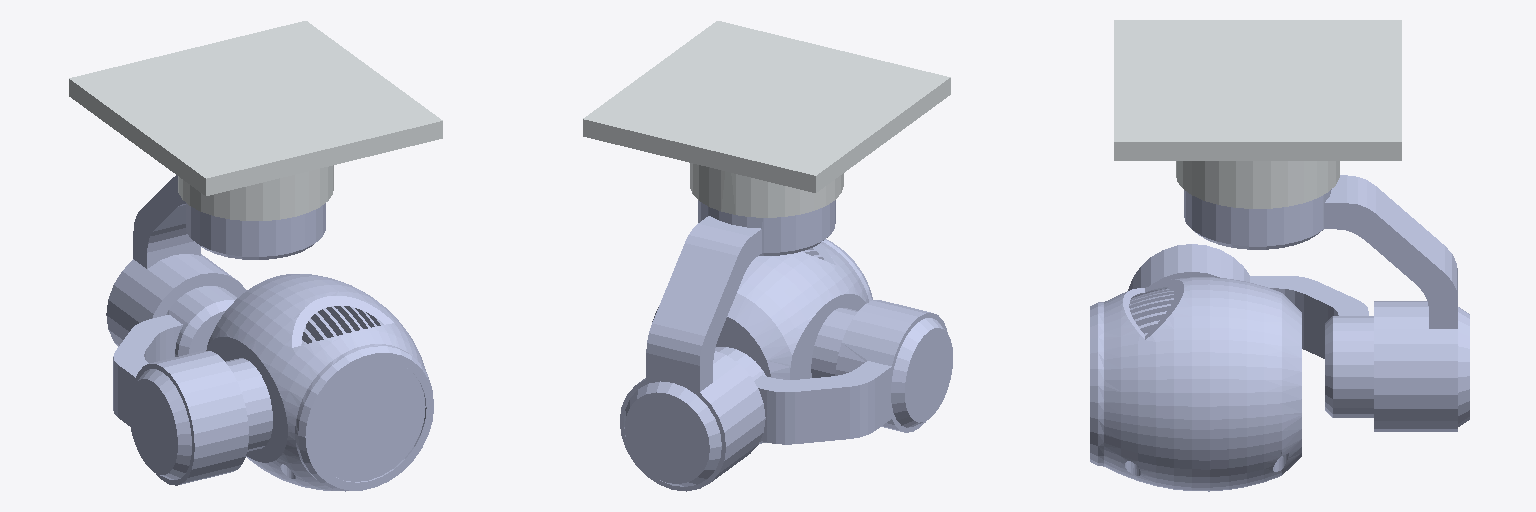
robot.urdf — my_gimbal_3d:
<?xml version="1.0" encoding="utf-8"?>
<!-- This URDF was automatically created by SolidWorks to URDF Exporter! Originally created by [author] ([email redacted]) 
     Commit Version: 1.6.0-4-g7f85cfe  Build Version: 1.6.7995.38578
     For more information, please see http://wiki.ros.org/sw_urdf_exporter -->
<robot
  name="my_gimbal_3d">
  <link
    name="base_link">
    <inertial>
      <origin
        xyz="-1.1249E-17 5.3962E-18 -0.0045389"
        rpy="0 0 0" />
      <mass
        value="0.078458" />
      <inertia
        ixx="3.1364E-05"
        ixy="2.356E-21"
        ixz="1.6956E-21"
        iyy="3.1364E-05"
        iyz="1.4274E-21"
        izz="5.8255E-05" />
    </inertial>
    <visual>
      <origin
        xyz="0 0 0"
        rpy="0 0 0" />
      <geometry>
        <mesh
          filename="package://my_gimbal_3d/meshes/base_link.STL" />
      </geometry>
      <material
        name="">
        <color
          rgba="0.89804 0.91765 0.92941 1" />
      </material>
    </visual>
    <collision>
      <origin
        xyz="0 0 0"
        rpy="0 0 0" />
      <geometry>
        <mesh
          filename="package://my_gimbal_3d/meshes/base_link.STL" />
      </geometry>
    </collision>
  </link>
  <link
    name="1st_link">
    <inertial>
      <origin
        xyz="1.2314E-16 -0.036892 -0.016252"
        rpy="0 0 0" />
      <mass
        value="0.14774" />
      <inertia
        ixx="0.00016878"
        ixy="2.5966E-21"
        ixz="2.3862E-21"
        iyy="7.3688E-05"
        iyz="-6.9072E-05"
        izz="0.00011514" />
    </inertial>
    <visual>
      <origin
        xyz="0 0 0"
        rpy="0 0 0" />
      <geometry>
        <mesh
          filename="package://my_gimbal_3d/meshes/1st_link.STL" />
      </geometry>
      <material
        name="">
        <color
          rgba="0.79216 0.81961 0.93333 1" />
      </material>
    </visual>
    <collision>
      <origin
        xyz="0 0 0"
        rpy="0 0 0" />
      <geometry>
        <mesh
          filename="package://my_gimbal_3d/meshes/1st_link.STL" />
      </geometry>
    </collision>
  </link>
  <joint
    name="pan"
    type="revolute">
    <origin
      xyz="0 0 -0.005"
      rpy="1.5708 0 0" />
    <parent
      link="base_link" />
    <child
      link="1st_link" />
    <axis
      xyz="0 1 0" />
    <limit
      lower="-0.7854"
      upper="0.7854"
      effort="0"
      velocity="0" />
  </joint>
  <link
    name="2nd_link">
    <inertial>
      <origin
        xyz="-0.022016 0 0.0019119"
        rpy="0 0 0" />
      <mass
        value="0.065317" />
      <inertia
        ixx="2.614E-05"
        ixy="1.2607E-22"
        ixz="1.2241E-05"
        iyy="3.501E-05"
        iyz="1.3965E-22"
        izz="1.5317E-05" />
    </inertial>
    <visual>
      <origin
        xyz="0 0 0"
        rpy="0 0 0" />
      <geometry>
        <mesh
          filename="package://my_gimbal_3d/meshes/2nd_link.STL" />
      </geometry>
      <material
        name="">
        <color
          rgba="0.79216 0.81961 0.93333 1" />
      </material>
    </visual>
    <collision>
      <origin
        xyz="0 0 0"
        rpy="0 0 0" />
      <geometry>
        <mesh
          filename="package://my_gimbal_3d/meshes/2nd_link.STL" />
      </geometry>
    </collision>
  </link>
  <joint
    name="roll"
    type="revolute">
    <origin
      xyz="0 -0.07165 0"
      rpy="0 0 0" />
    <parent
      link="1st_link" />
    <child
      link="2nd_link" />
    <axis
      xyz="0 0 1" />
    <limit
      lower="-0.7854"
      upper="0.7854"
      effort="0"
      velocity="0" />
  </joint>
  <link
    name="camera">
    <inertial>
      <origin
        xyz="0.0091921 -0.00078771 -0.0014335"
        rpy="0 0 0" />
      <mass
        value="0.23523" />
      <inertia
        ixx="7.527E-05"
        ixy="6.9626E-07"
        ixz="6.3053E-07"
        iyy="8.0649E-05"
        iyz="7.1378E-07"
        izz="6.9991E-05" />
    </inertial>
    <visual>
      <origin
        xyz="0 0 0"
        rpy="0 0 0" />
      <geometry>
        <mesh
          filename="package://my_gimbal_3d/meshes/camera.STL" />
      </geometry>
      <material
        name="">
        <color
          rgba="0.79216 0.81961 0.93333 1" />
      </material>
    </visual>
    <collision>
      <origin
        xyz="0 0 0"
        rpy="0 0 0" />
      <geometry>
        <mesh
          filename="package://my_gimbal_3d/meshes/camera.STL" />
      </geometry>
    </collision>
  </link>
  <joint
    name="tilt"
    type="revolute">
    <origin
      xyz="0 0 0.01595"
      rpy="0 0 0" />
    <parent
      link="2nd_link" />
    <child
      link="camera" />
    <axis
      xyz="1 0 0" />
    <limit
      lower="-2.3562"
      upper="0.7854"
      effort="0"
      velocity="0" />
  </joint>
</robot>

--- What the picture shows (computed from the rendered views, not written in the file) ---
Views: 3 orthographic renders of the robot side by side, from view 1: azimuth 30°, elevation 25°; view 2: azimuth 150°, elevation 25°; view 3: azimuth 270°, elevation 25°.
Model my_gimbal_3d with 4 links and 3 joints (3 revolute), rooted at base_link, posed all joints at 0.
Visible links, largest first — view 1: base_link, camera, 2nd_link, 1st_link; view 2: base_link, 1st_link, 2nd_link, camera; view 3: base_link, camera, 1st_link, 2nd_link.
Link boxes in pixels (x1,y1,x2,y2): base_link: [69, 21, 442, 220]; camera: [206, 274, 433, 491]; 2nd_link: [113, 286, 248, 485]; 1st_link: [106, 175, 325, 346]; base_link: [583, 21, 950, 217]; 1st_link: [620, 200, 835, 491]; 2nd_link: [715, 300, 952, 444]; camera: [652, 239, 872, 443]; base_link: [1114, 20, 1401, 208]; camera: [1090, 277, 1301, 491]; 1st_link: [1184, 175, 1469, 431]; 2nd_link: [1128, 244, 1373, 417].
Bounding box of the posed robot: 0.0756 × 0.0925 × 0.1027 m (x, y, z).
4 mesh visuals loaded from 4 distinct referenced files (4 binary STL).